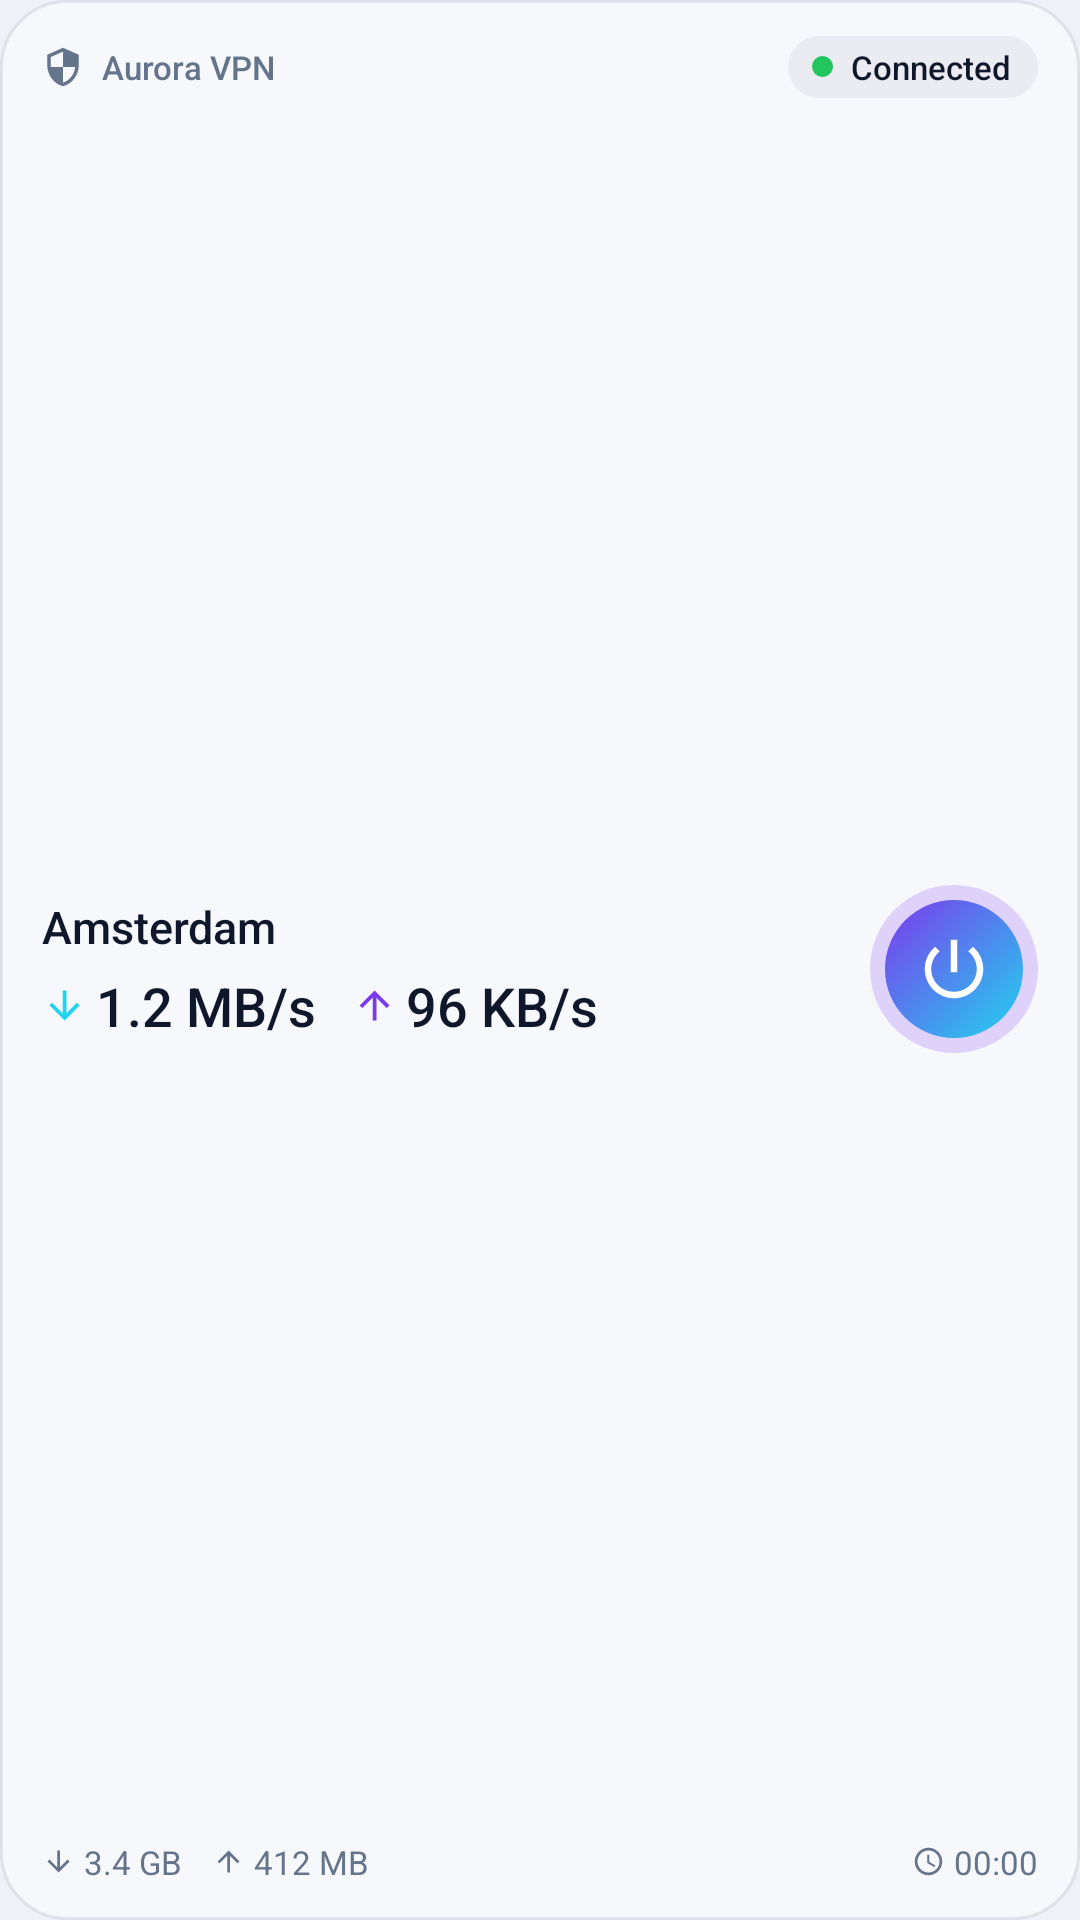

Icons on this 1080px×1920px Android screen, each with its box as {"x1": x1, "y1": y1, "x2": x2, "y2": y2}:
Disconnected: {"x1": 870, "y1": 885, "x2": 1038, "y2": 1053}
Session: {"x1": 914, "y1": 1847, "x2": 943, "y2": 1876}
